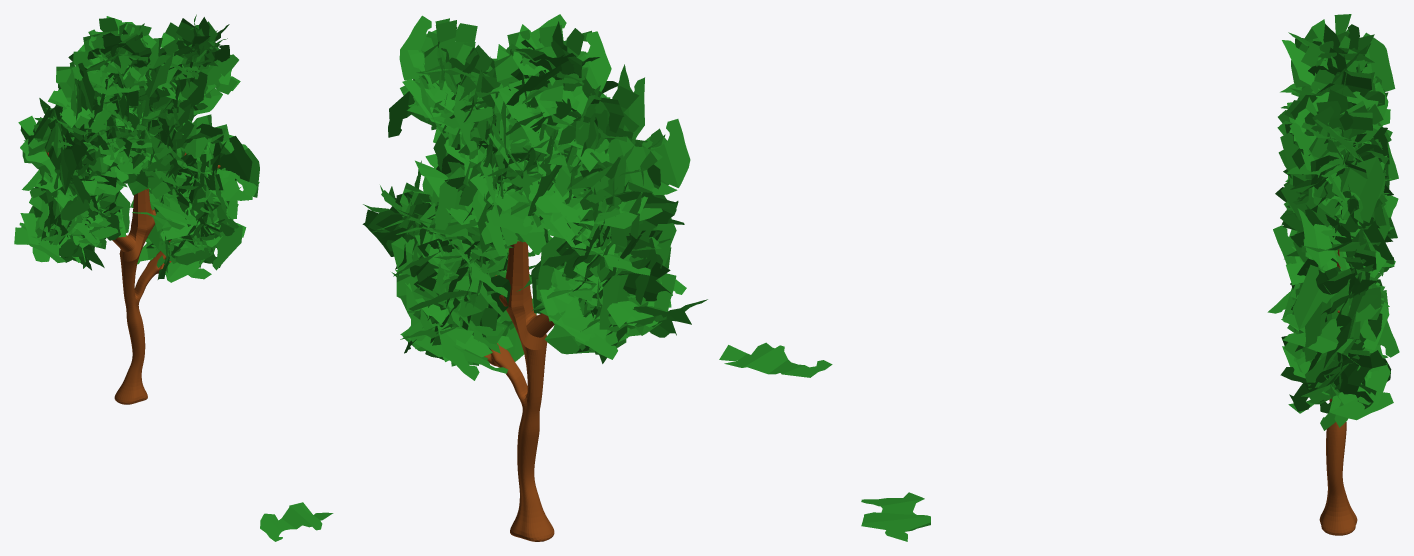
Rendered from tree4.obj.
3 views of the same model, side by side, from view 1: azimuth 30°, elevation 25°; view 2: azimuth 150°, elevation 25°; view 3: azimuth 270°, elevation 25° (orthographic). The views are drawn at different scales.
Visible parts, largest first — view 1: Tree_Branch, Cube_Cube.001; view 2: Tree_Branch, Cube_Cube.001; view 3: Tree_Branch, Cube_Cube.001.
Boxes of the visible parts, x1=… form: Tree_Branch: x1=14, y1=14, x2=333, y2=541; Cube_Cube.001: x1=45, y1=150, x2=220, y2=404; Tree_Branch: x1=362, y1=14, x2=832, y2=380; Cube_Cube.001: x1=484, y1=241, x2=554, y2=541; Tree_Branch: x1=861, y1=14, x2=1399, y2=541; Cube_Cube.001: x1=1319, y1=249, x2=1357, y2=535.
Bounding box in the file's own units: 3.54 × 5.44 × 5.29.
